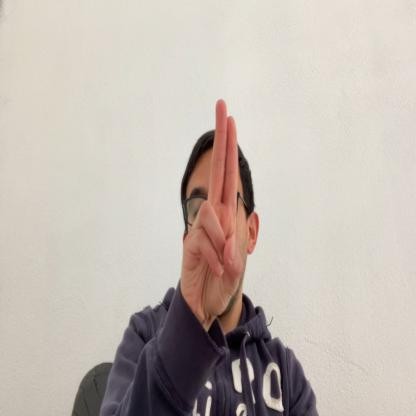U: (182, 99, 244, 317)
